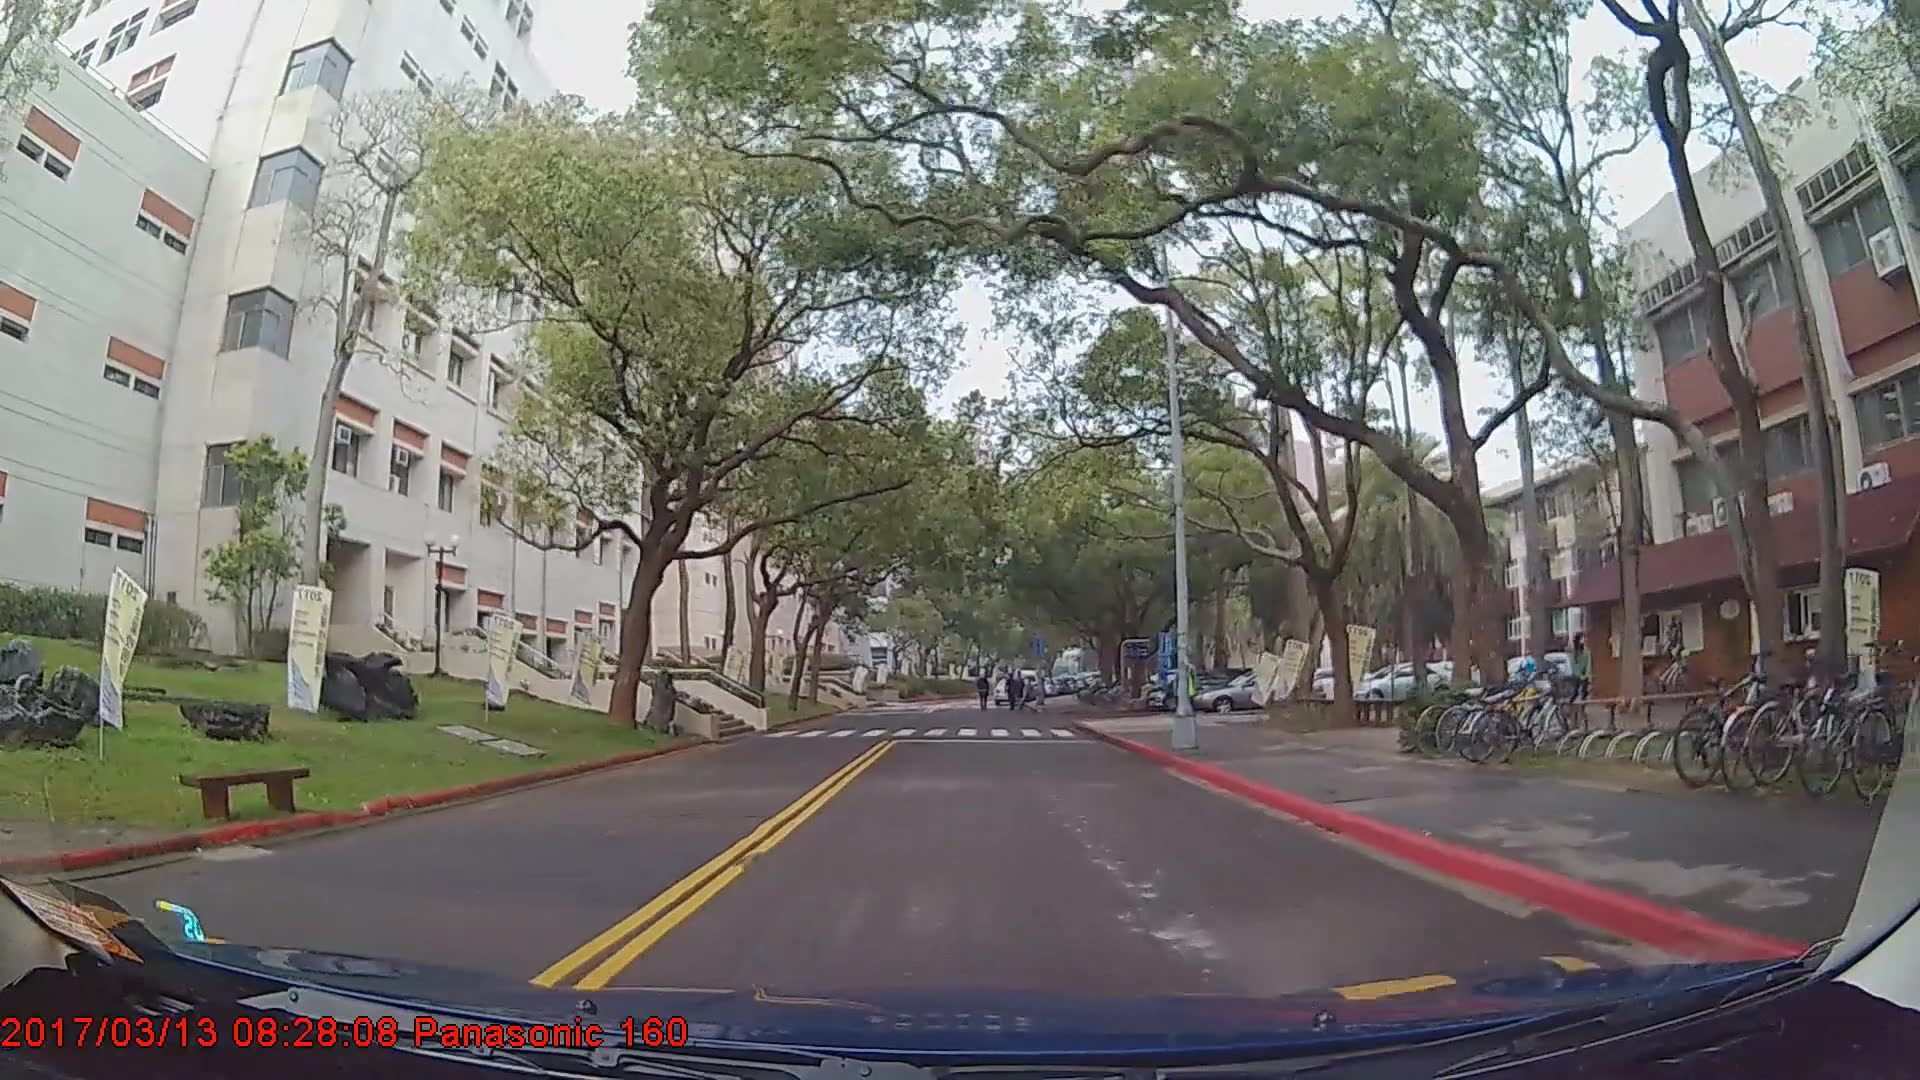vehicle: (1191, 671, 1324, 713), (1349, 659, 1455, 705)
